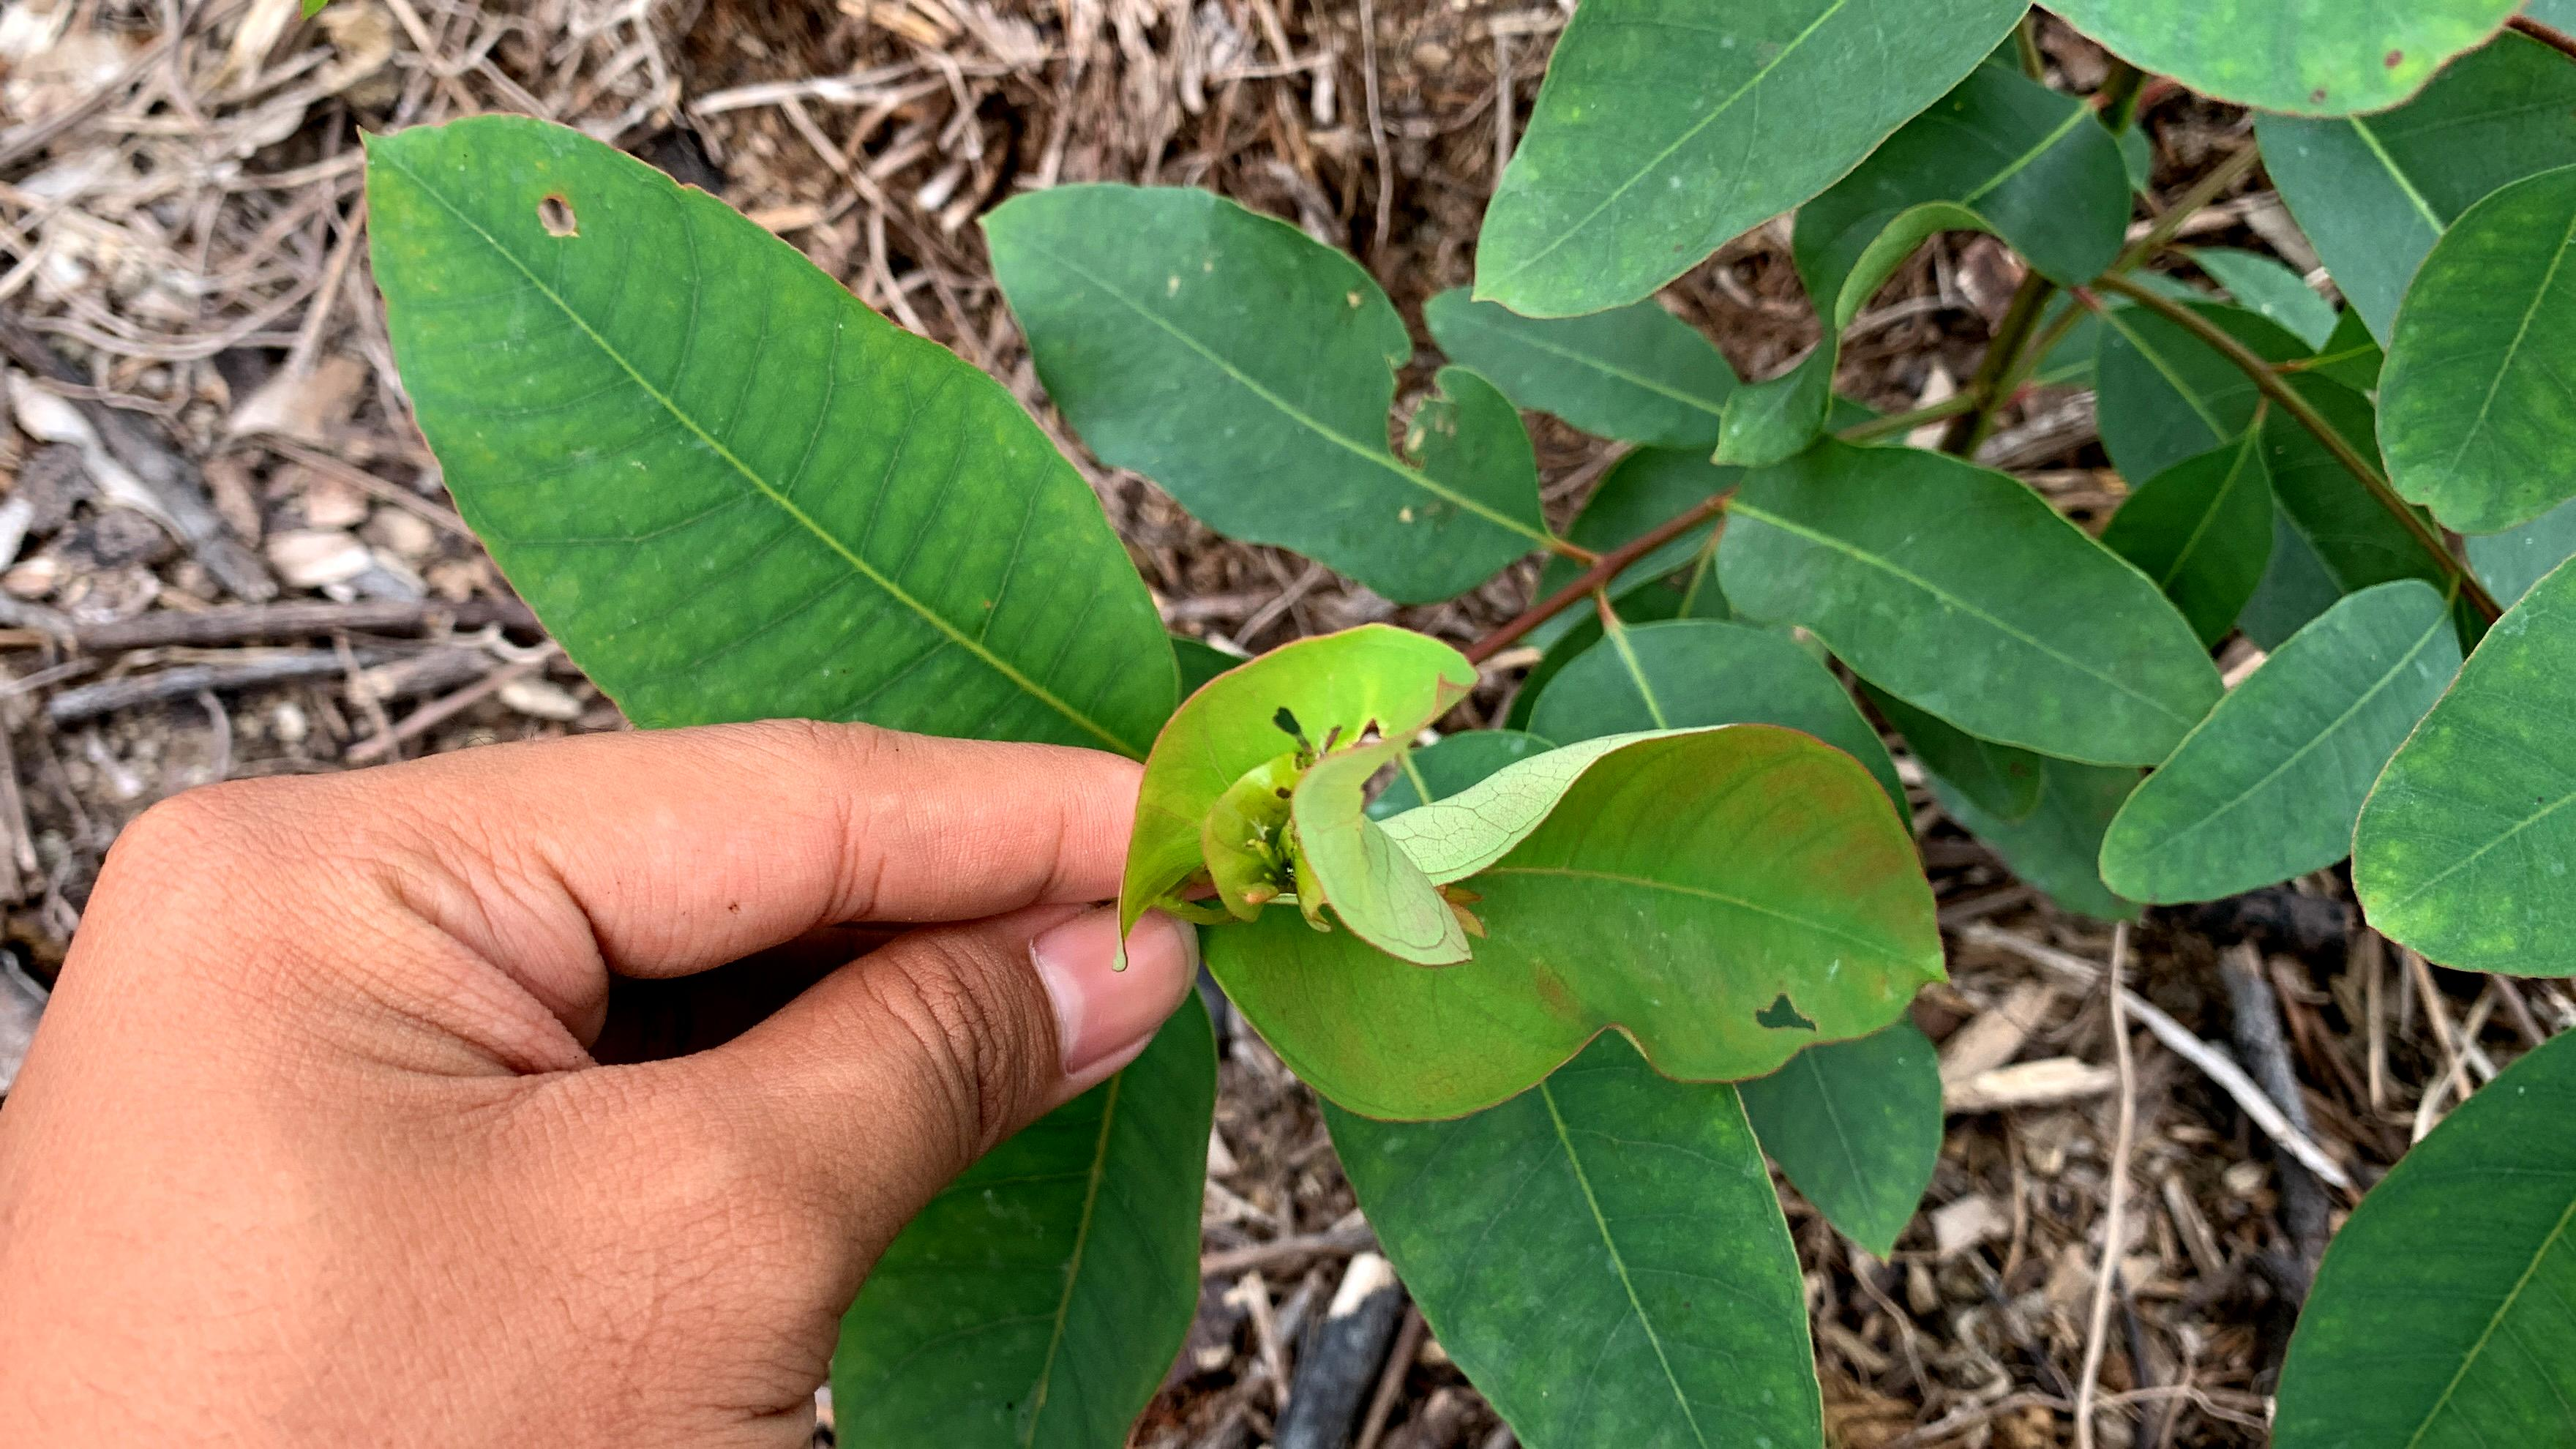Leaf Roller - Leaf: (1117, 713, 1904, 1085)
